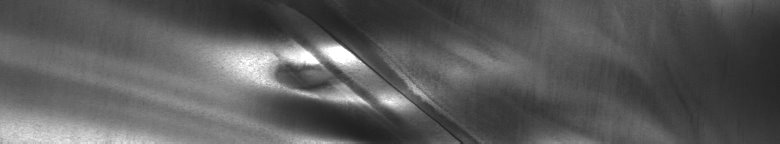ke: (268, 32, 452, 136)
